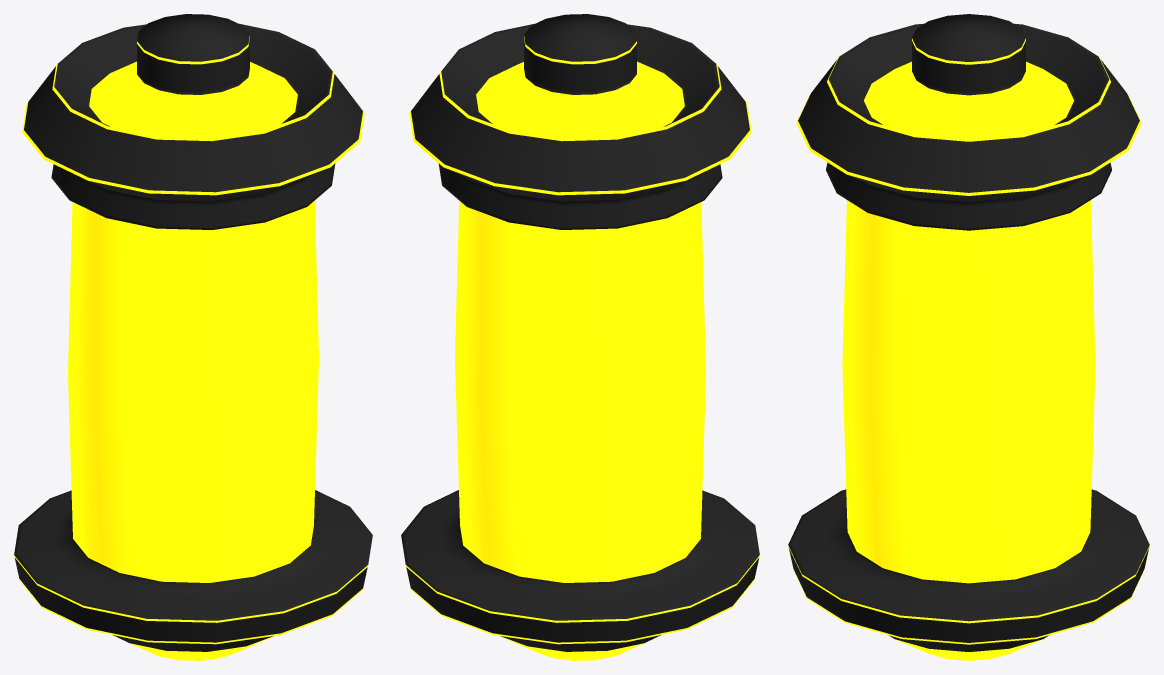
File: Beacon-bombLvl3.fbx
The picture shows the model from 3 angles, left to right: view 1: azimuth 30°, elevation 25°; view 2: azimuth 150°, elevation 25°; view 3: azimuth 270°, elevation 25°; orthographic projection.
Parts seen in each view (by area): view 1: Sphere; view 2: Sphere; view 3: Sphere.
Part boxes in pixels (x1,y1,x2,y2): Sphere: (14, 14, 372, 660); Sphere: (401, 14, 759, 660); Sphere: (788, 14, 1149, 660).
Bounding box in the file's own units: 243 × 451 × 243.
